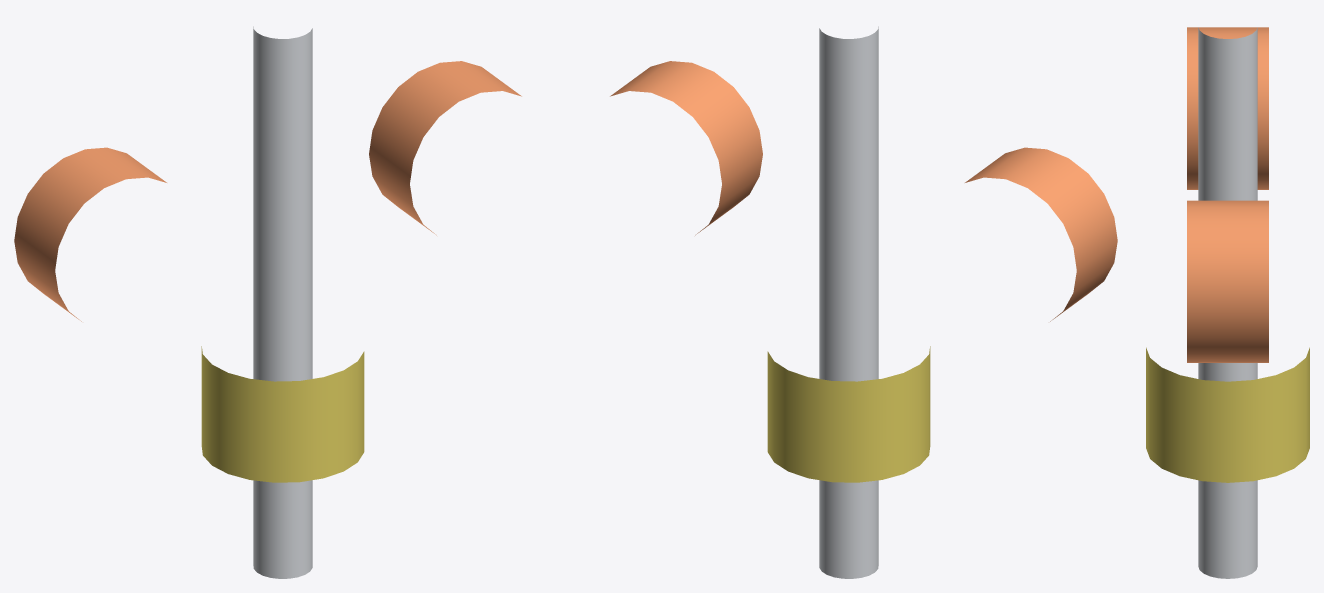
File: governor_mechanisms.glb
The picture shows the model from 3 angles, left to right: view 1: azimuth 30°, elevation 25°; view 2: azimuth 150°, elevation 25°; view 3: azimuth 270°, elevation 25°; orthographic projection.
Parts seen in each view (by area): view 1: VerticalGovernorSpindleShaft, SlidingCentralSleeveCollar, RotatingFlyballMassLeft, RotatingFlyballMassRight; view 2: VerticalGovernorSpindleShaft, SlidingCentralSleeveCollar, RotatingFlyballMassLeft, RotatingFlyballMassRight; view 3: SlidingCentralSleeveCollar, VerticalGovernorSpindleShaft, RotatingFlyballMassRight, RotatingFlyballMassLeft.
Part boxes in pixels (box(x1,y1,x2,y2)): VerticalGovernorSpindleShaft: box(253, 26, 312, 578); SlidingCentralSleeveCollar: box(201, 346, 364, 482); RotatingFlyballMassLeft: box(14, 147, 166, 321); RotatingFlyballMassRight: box(369, 61, 521, 235); VerticalGovernorSpindleShaft: box(819, 26, 878, 578); SlidingCentralSleeveCollar: box(767, 346, 930, 482); RotatingFlyballMassLeft: box(965, 147, 1117, 321); RotatingFlyballMassRight: box(610, 61, 762, 235); SlidingCentralSleeveCollar: box(1146, 347, 1309, 482); VerticalGovernorSpindleShaft: box(1198, 27, 1257, 578); RotatingFlyballMassRight: box(1187, 200, 1268, 362); RotatingFlyballMassLeft: box(1187, 27, 1268, 189).
Size of the model in its own units: 1.54 by 1.6 by 0.44.
